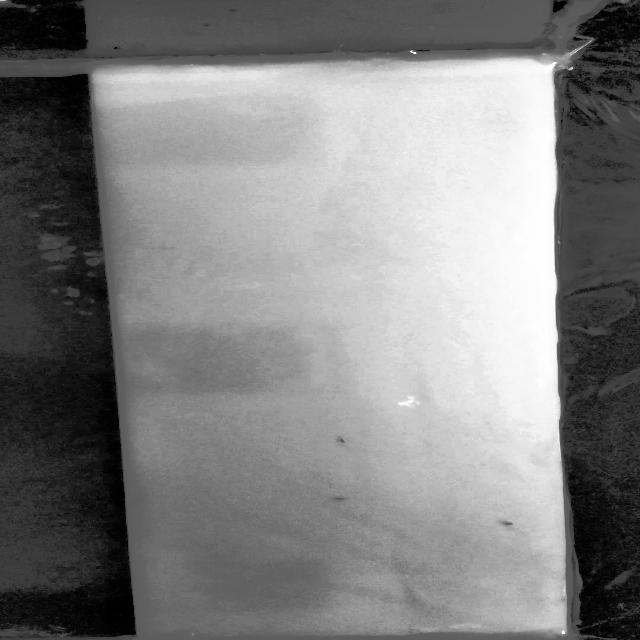shrimp: (330, 434, 359, 454), (490, 516, 517, 530), (326, 492, 354, 503), (128, 493, 148, 507)
